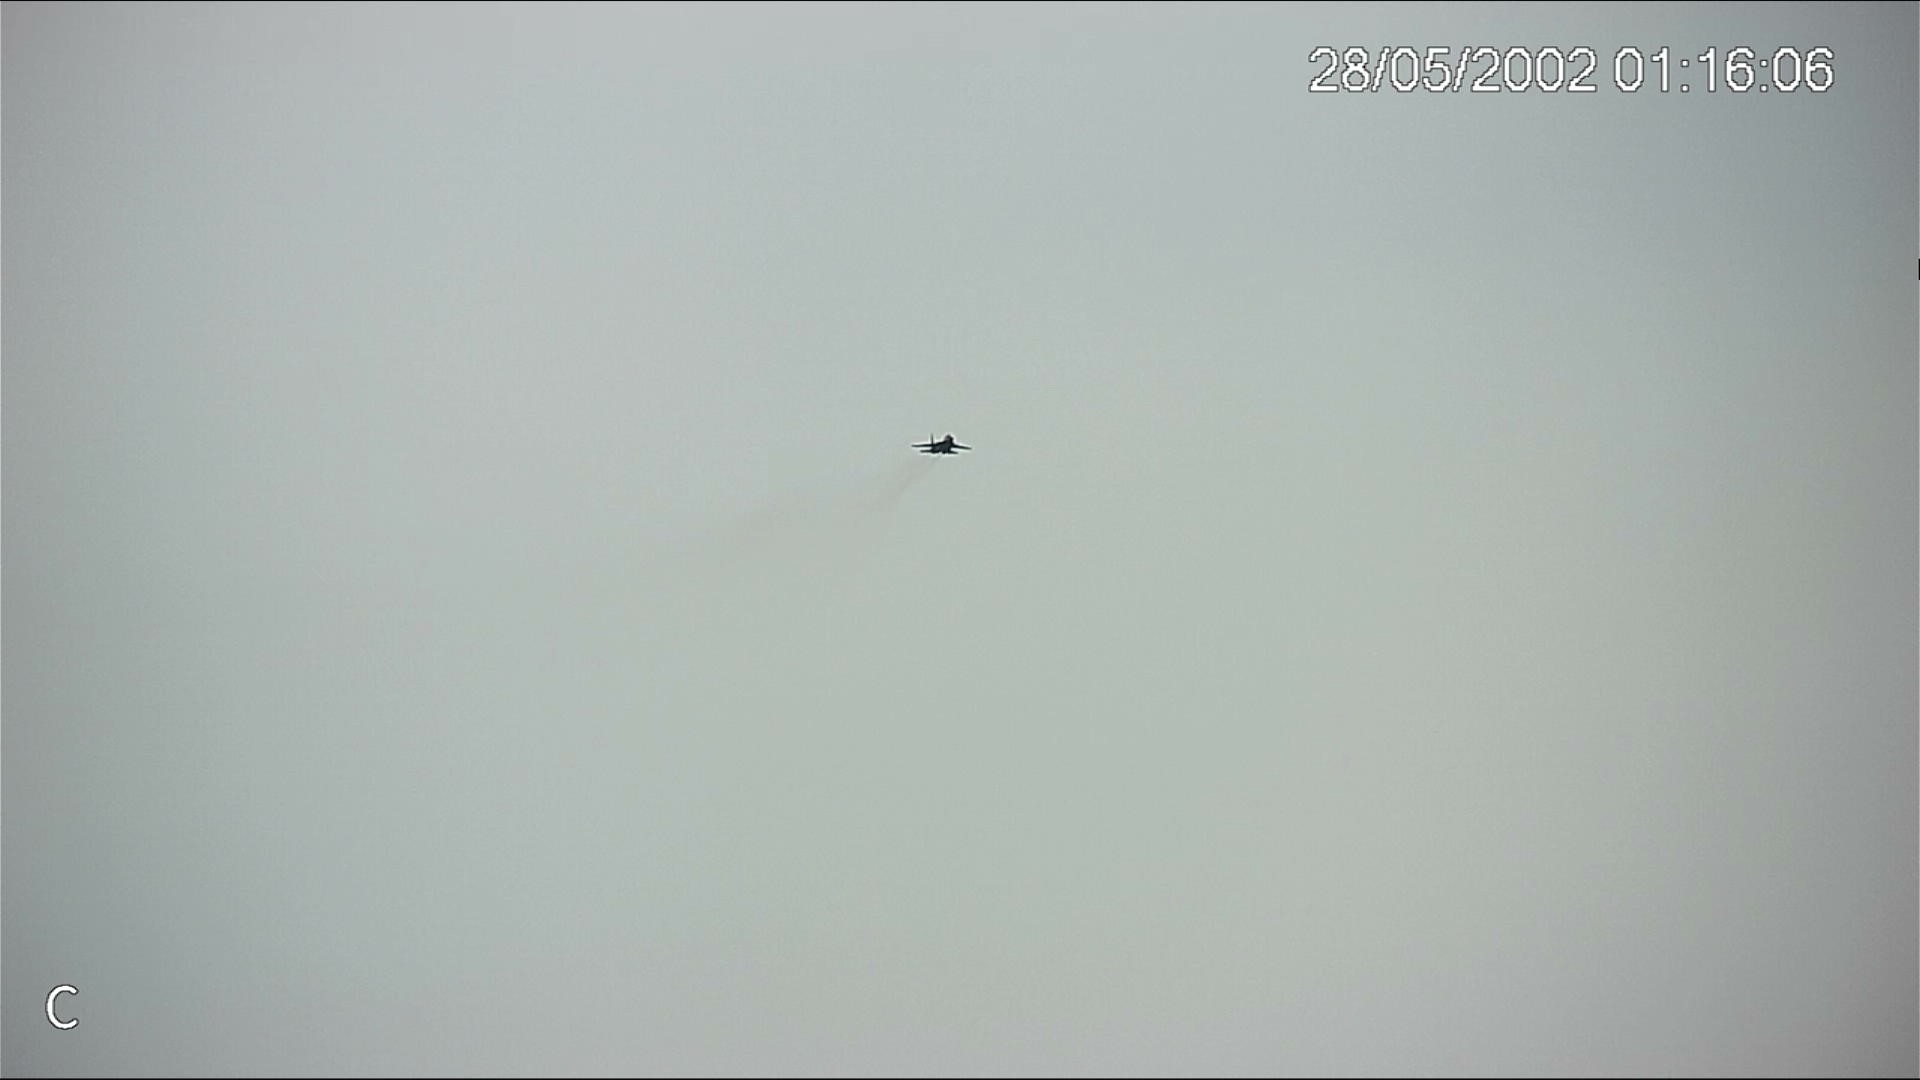SU_30: (909, 431, 975, 456)
